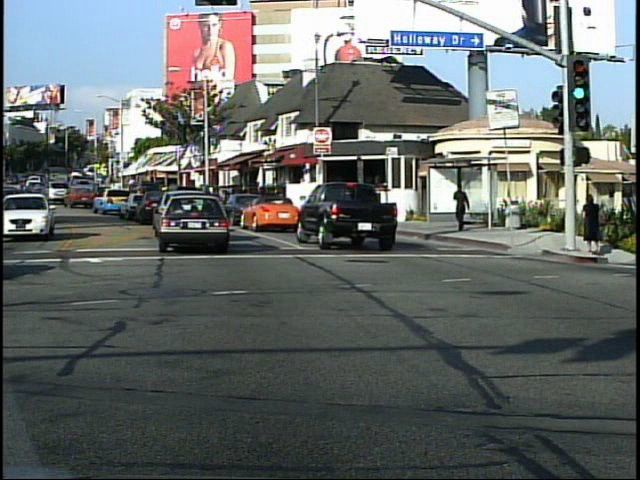person: (580, 190, 605, 256), (451, 181, 472, 236)
